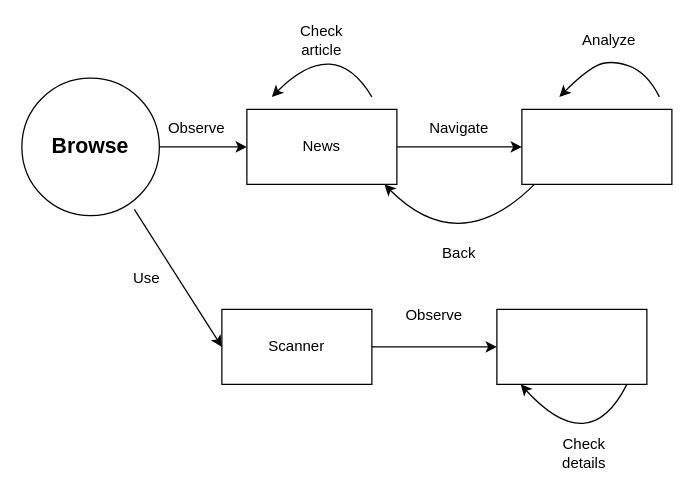
Some shapes in this 694 by 493 pixel diagram are drawn without their labels. The shapes that lost their labels are listed below. From the top down, each one's centre as x and y in pixels, then its label:
At (x=596, y=146): "Statistics".
At (x=571, y=346): "Product Details".
